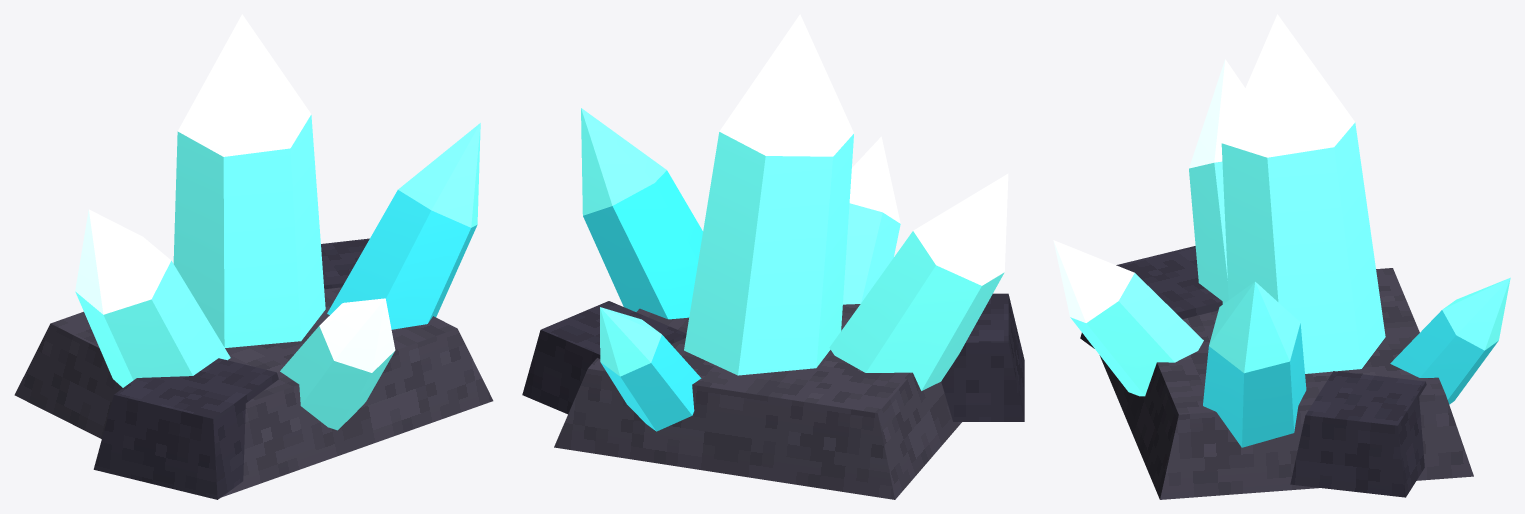
The model's file is res_crystal.glb.
The picture shows the model from 3 angles, left to right: view 1: azimuth 30°, elevation 25°; view 2: azimuth 150°, elevation 25°; view 3: azimuth 270°, elevation 25°; orthographic projection.
Visible parts, largest first — view 1: glow_crystal, res_crystal; view 2: glow_crystal, res_crystal; view 3: glow_crystal, res_crystal.
Boxes of the visible parts, x1,y1,x2,y2 form: glow_crystal: [75, 14, 480, 430]; res_crystal: [14, 238, 493, 499]; glow_crystal: [581, 14, 1008, 431]; res_crystal: [522, 293, 1024, 499]; glow_crystal: [1053, 14, 1510, 447]; res_crystal: [1080, 246, 1473, 499].
Size of the model in its own units: 1.2 by 1.08 by 1.15.
Materials: 5 (2 with a texture image).
